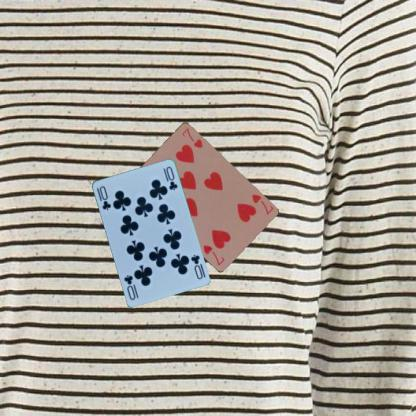10c: (188, 251, 206, 280), (97, 183, 112, 212)
7h: (249, 192, 274, 215)
